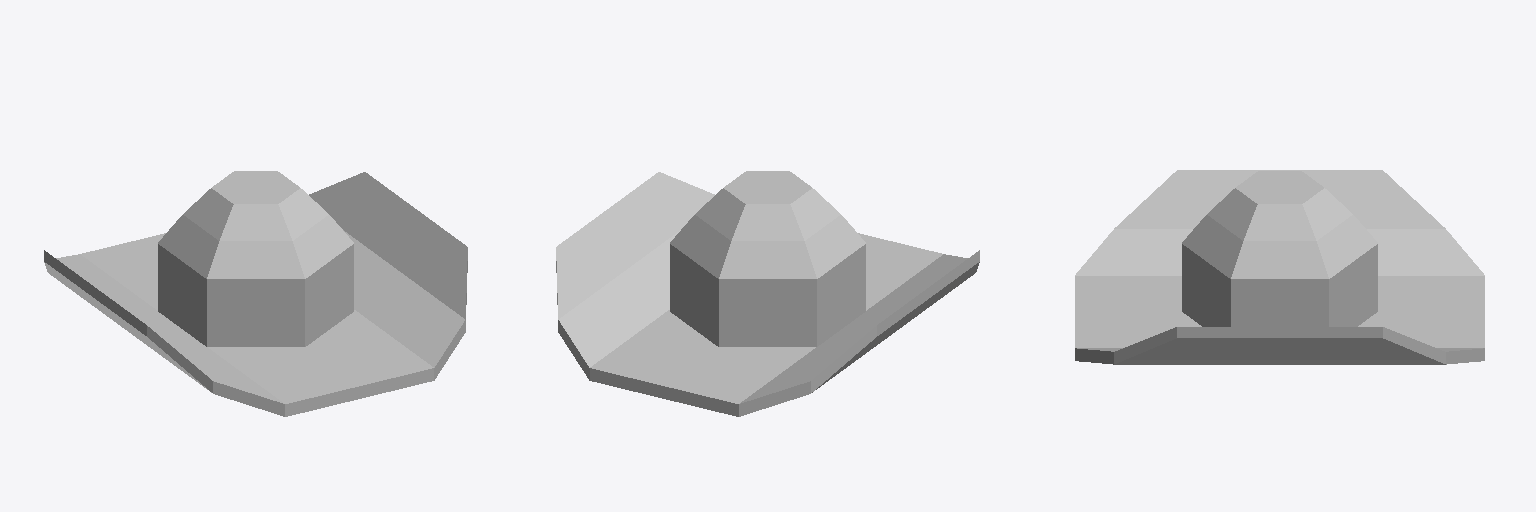
The model's file is cowboy_hat_01.obj.
3 views of the same model, side by side, from view 1: azimuth 30°, elevation 25°; view 2: azimuth 150°, elevation 25°; view 3: azimuth 270°, elevation 25° (orthographic).
Parts seen in each view (by area): view 1: Cube; view 2: Cube; view 3: Cube.
Boxes of the visible parts, x1,y1,x2,y2 form: Cube: [44, 171, 467, 416]; Cube: [556, 171, 979, 416]; Cube: [1075, 170, 1484, 364].
Bounding box in the file's own units: 1.8 × 0.732 × 2.